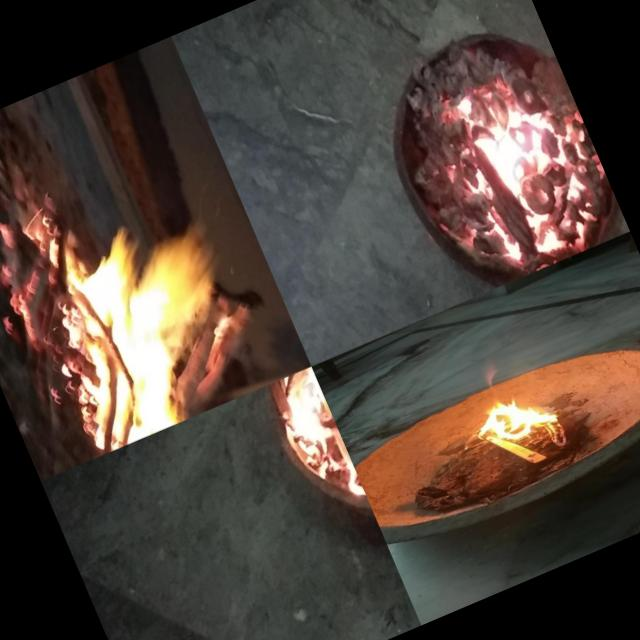fire: (22, 102, 311, 440), (406, 41, 630, 292), (462, 382, 562, 468)
smoke: (471, 359, 514, 401)
